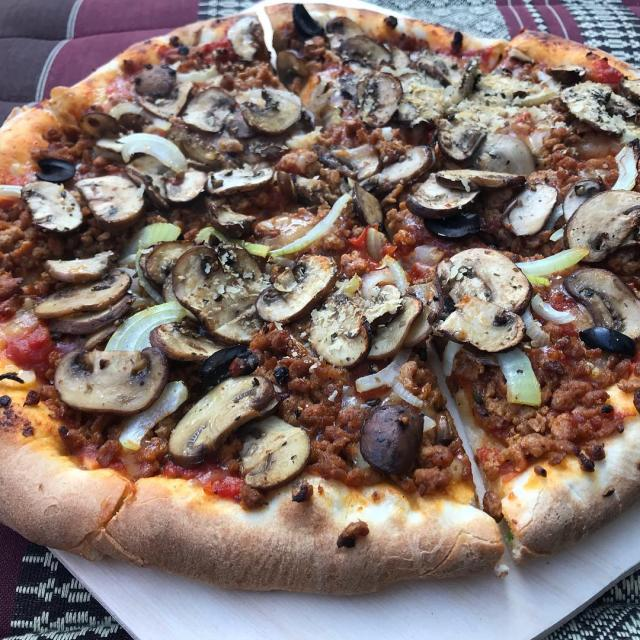black_olives: (201, 344, 259, 384), (580, 324, 638, 358), (425, 212, 481, 240), (36, 155, 81, 186), (290, 2, 324, 39)
mushrooms: (172, 247, 267, 346), (173, 377, 272, 461), (56, 350, 166, 412), (438, 249, 532, 315), (563, 188, 640, 262), (565, 268, 640, 339), (256, 254, 331, 324), (244, 419, 310, 488), (36, 272, 130, 318), (446, 301, 526, 353), (146, 315, 226, 363), (311, 301, 369, 367), (407, 173, 482, 219), (370, 295, 423, 359), (20, 182, 86, 232), (561, 81, 619, 137), (78, 176, 147, 222), (240, 85, 302, 133), (470, 134, 537, 174), (147, 245, 196, 295), (126, 157, 175, 207), (377, 146, 433, 188), (510, 185, 555, 234), (184, 88, 233, 132), (359, 74, 400, 124), (321, 145, 381, 177), (208, 165, 274, 193), (137, 84, 192, 117), (436, 171, 526, 191), (346, 36, 394, 70), (226, 16, 262, 60), (352, 182, 382, 234), (440, 128, 486, 159), (159, 173, 207, 201), (45, 260, 110, 280), (275, 48, 309, 78), (326, 16, 364, 40)
pizza: (0, 0, 640, 600)
